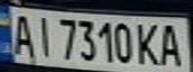0: (112, 19, 136, 65)
1: (93, 18, 115, 63)
3: (75, 17, 96, 62)
7: (54, 15, 78, 61)
A: (154, 20, 187, 69), (6, 10, 36, 57)
I: (30, 12, 57, 59)
K: (133, 19, 163, 66)
